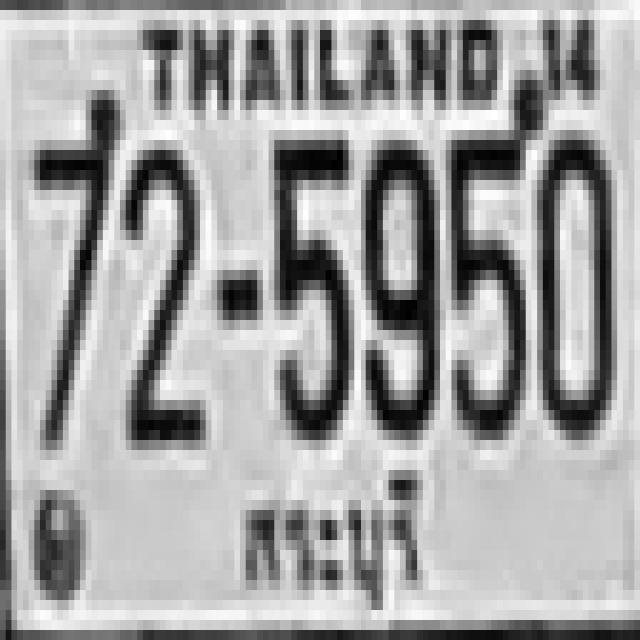0: (534, 130, 609, 430)
2: (120, 140, 200, 440)
5: (268, 135, 348, 435), (448, 130, 523, 430)
7: (29, 85, 114, 445)
9: (360, 130, 434, 430)
SRI: (225, 473, 430, 620)
